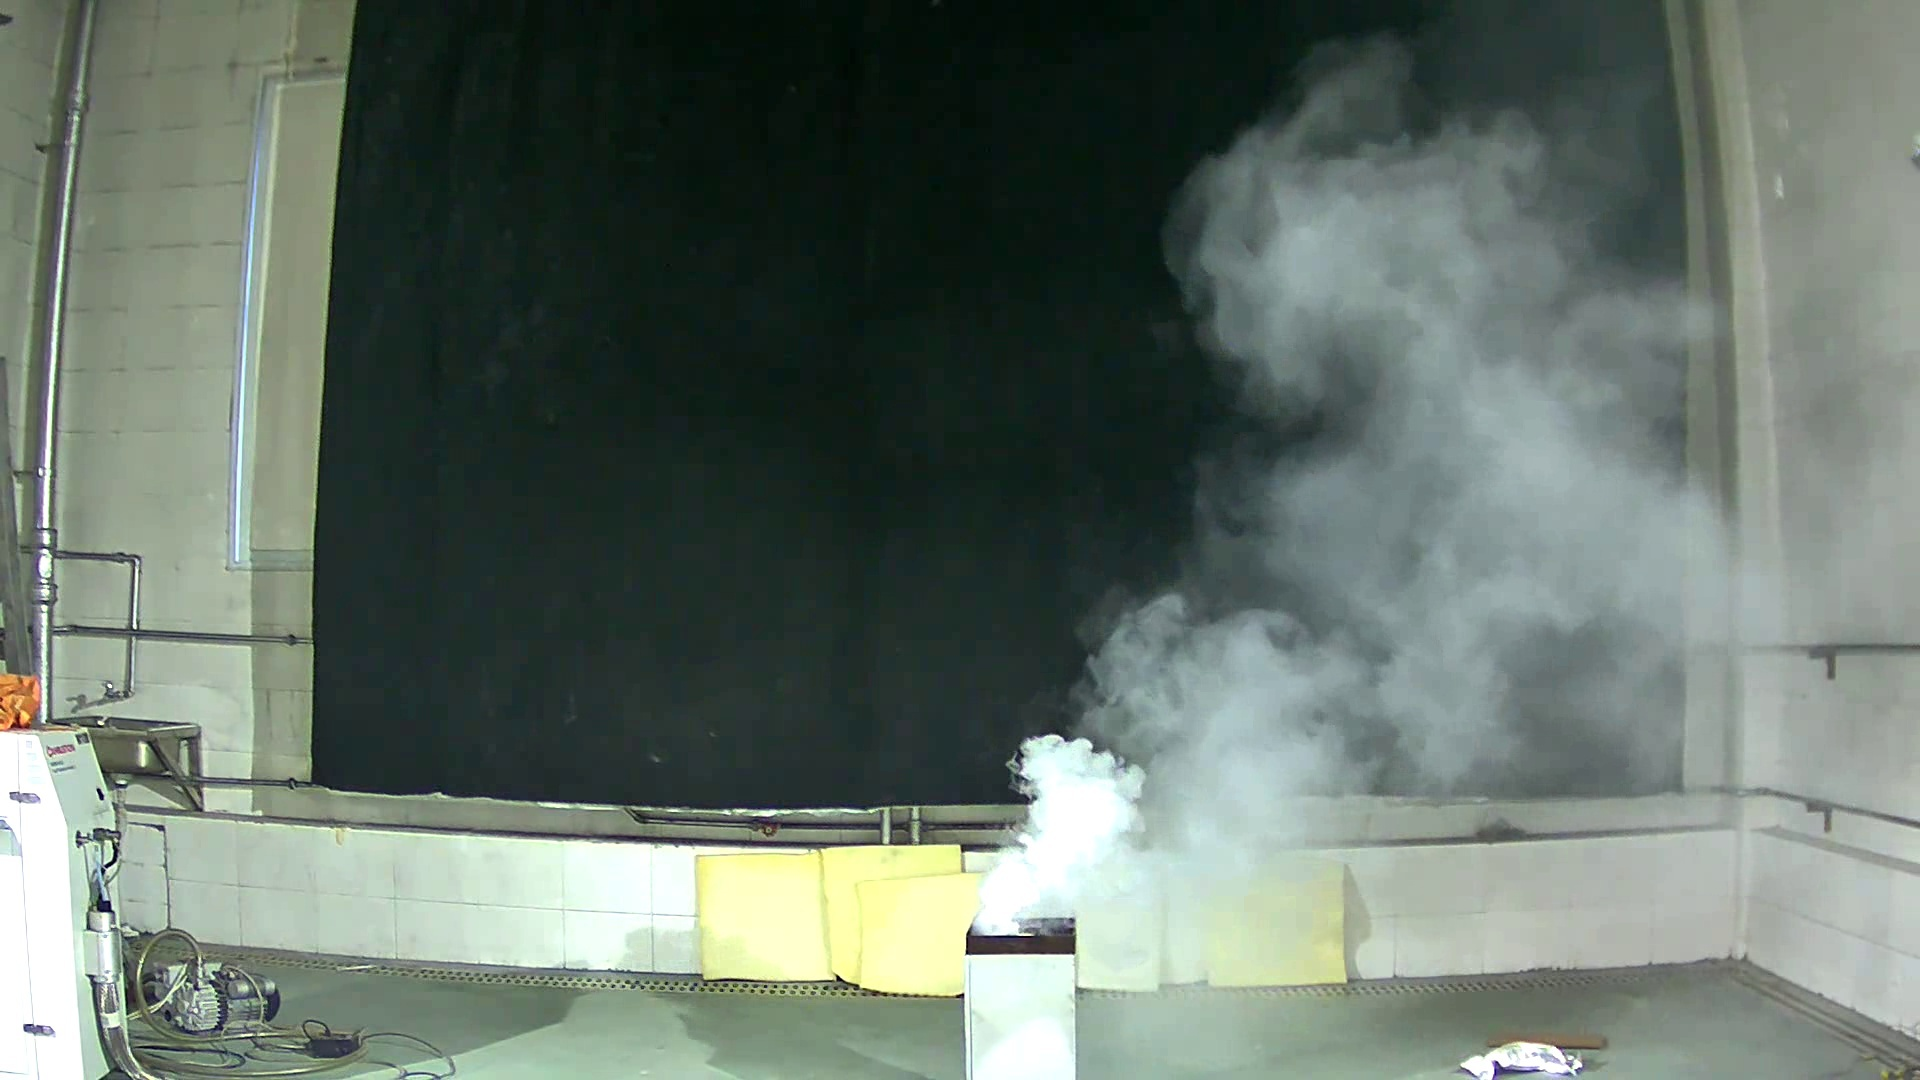smoke: (906, 59, 1733, 934)
